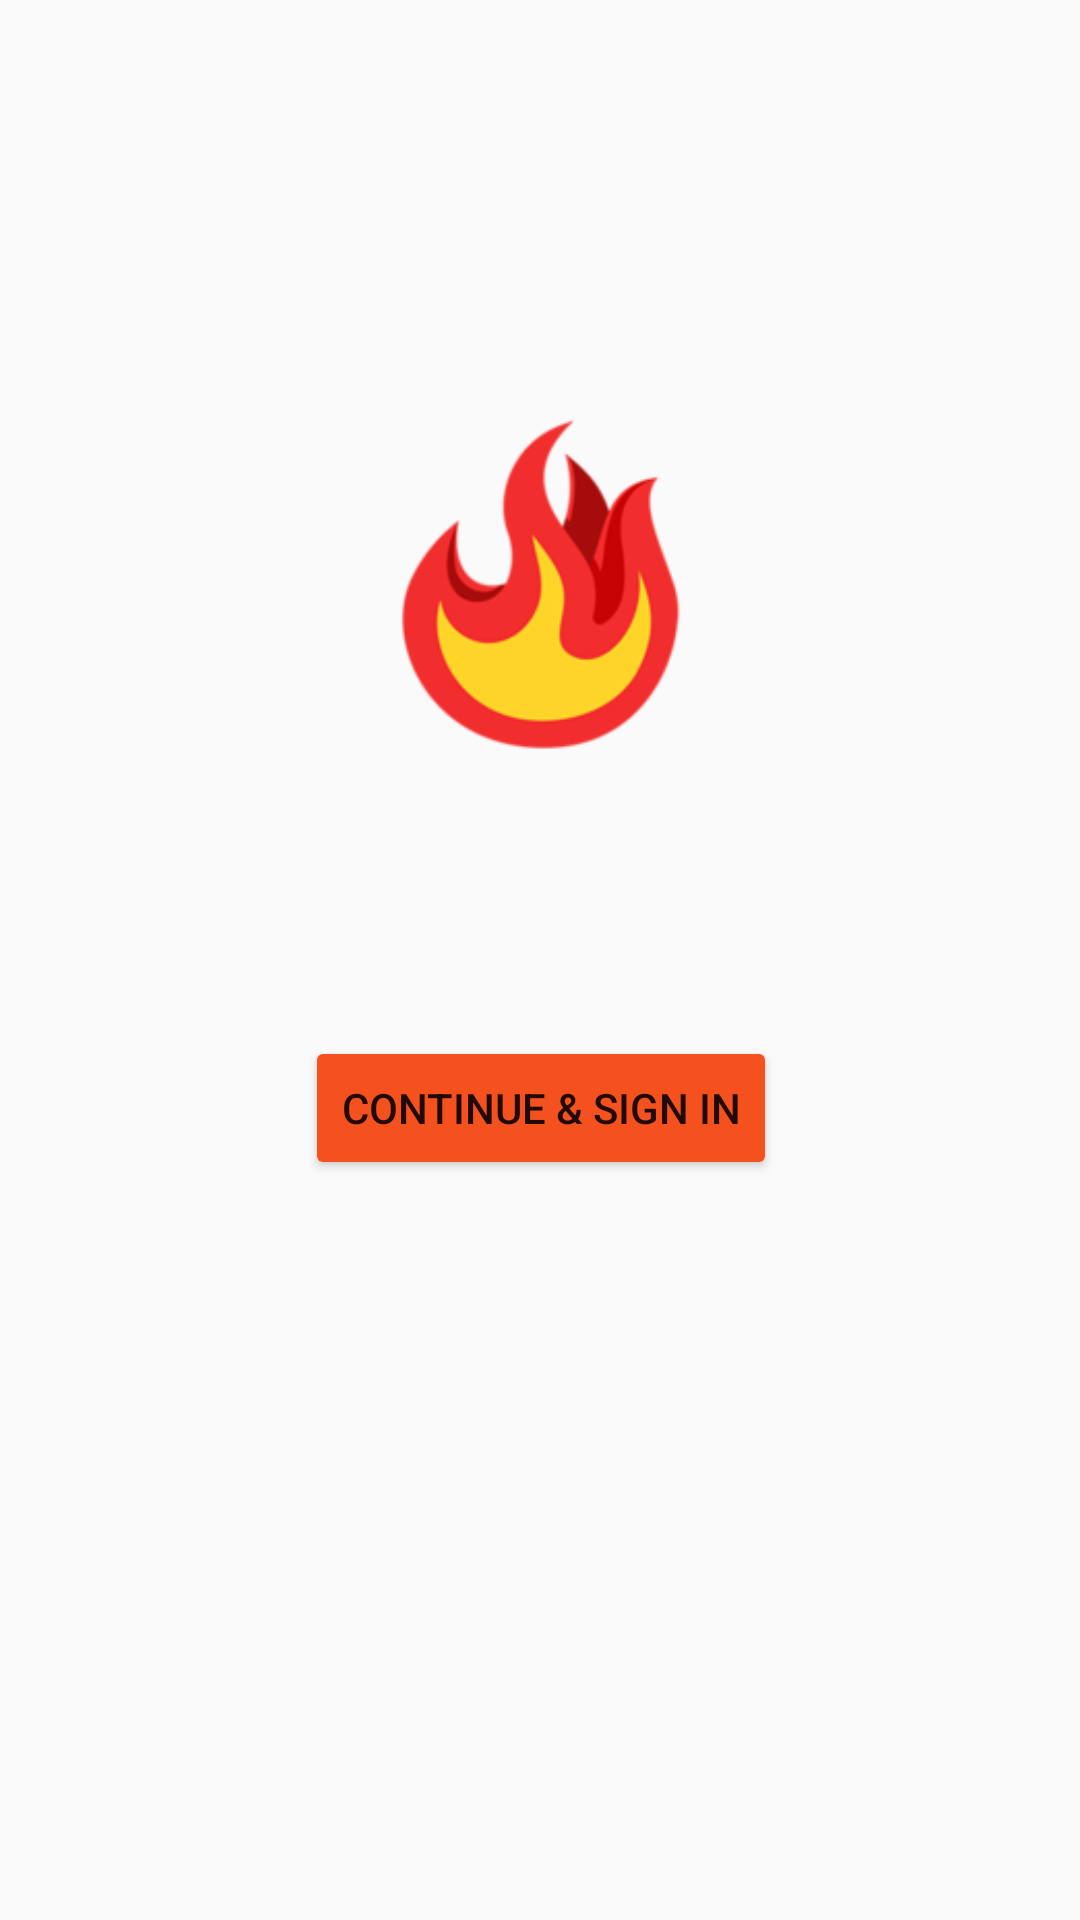

Where icons sit on this 1080×1920 app screen, as (x1, y1, x2, y2):
fire emoji: (402, 420, 680, 749)
